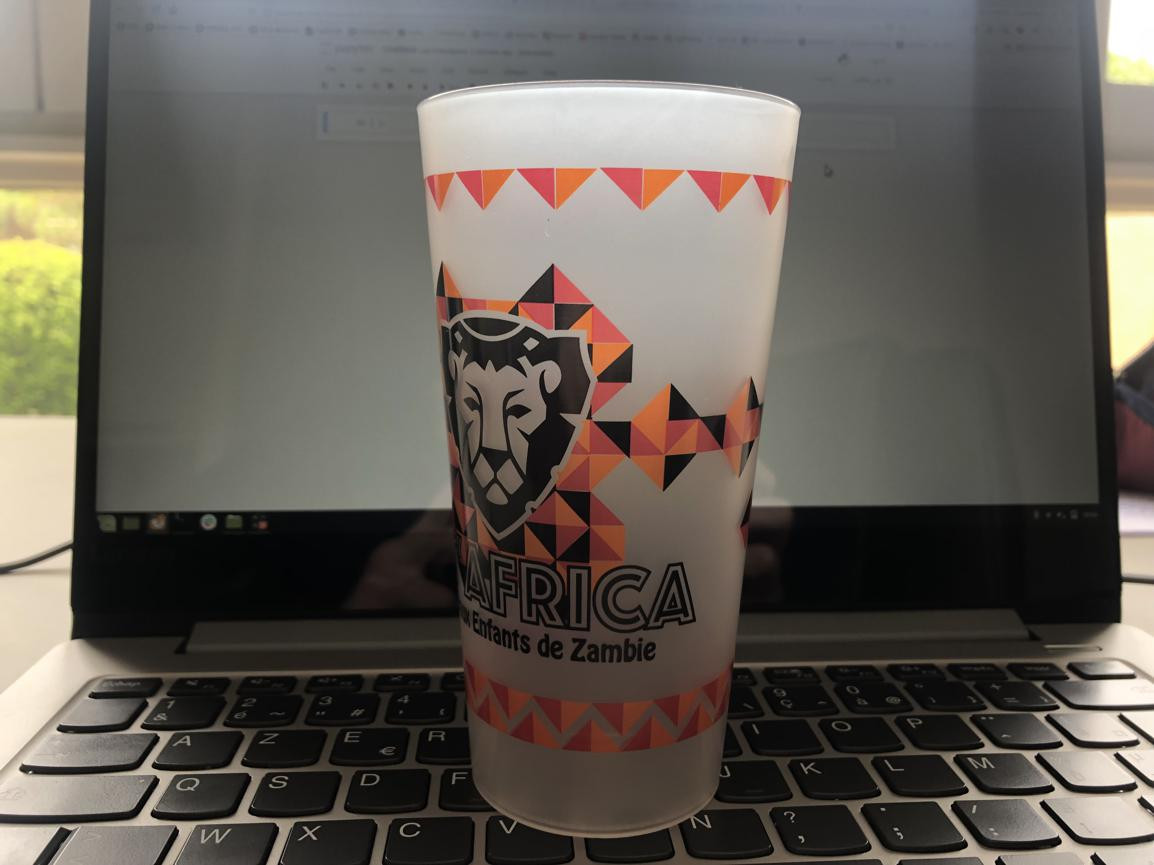ecocup: (416, 79, 802, 839)
